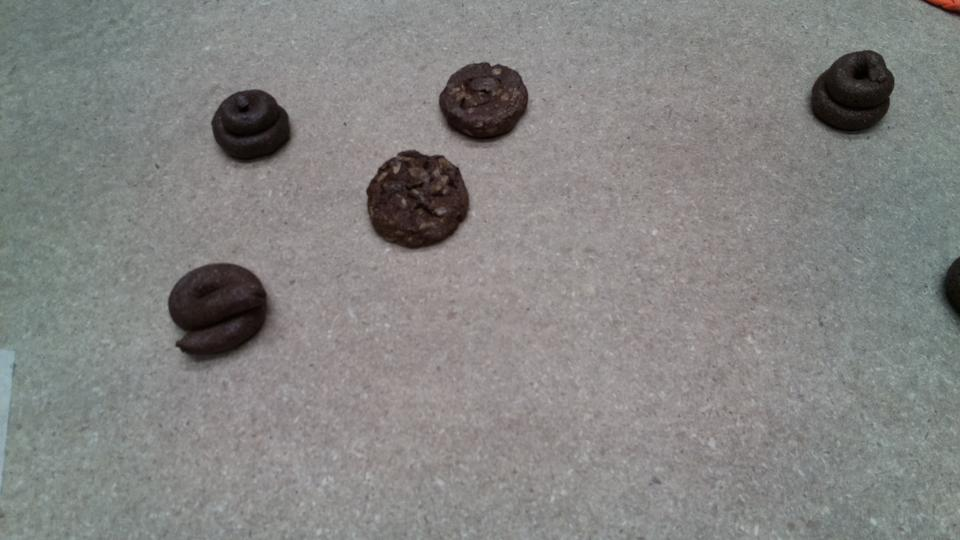poop: (369, 153, 468, 247), (169, 264, 266, 359), (810, 51, 894, 136), (442, 65, 528, 141), (212, 90, 291, 162)
